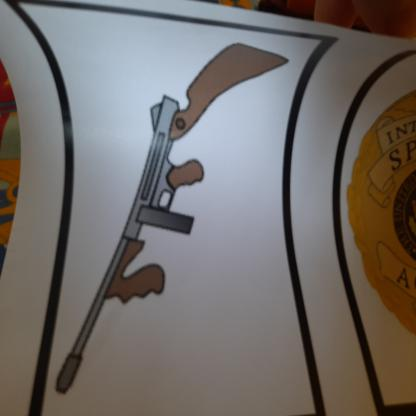Bootlegger: (55, 26, 299, 416)
